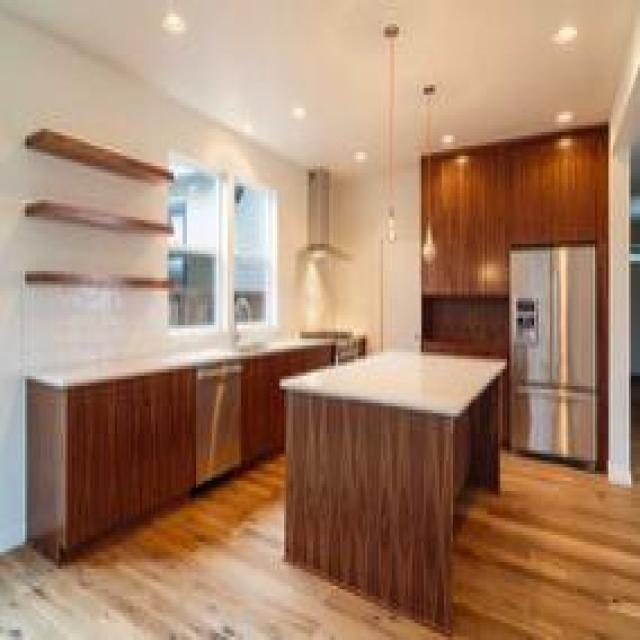dishwasher: (194, 355, 239, 481)
